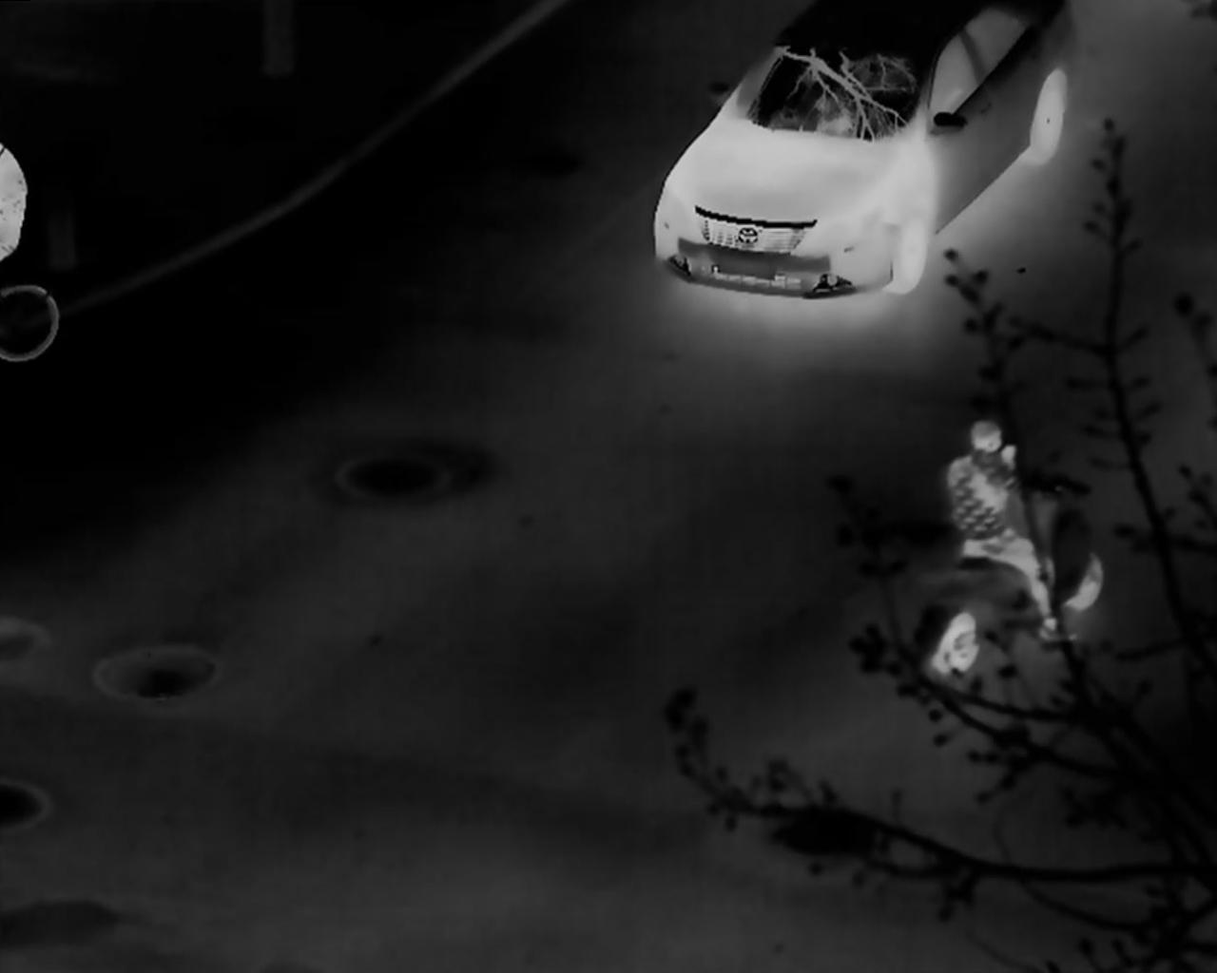person: (944, 417, 1068, 642)
